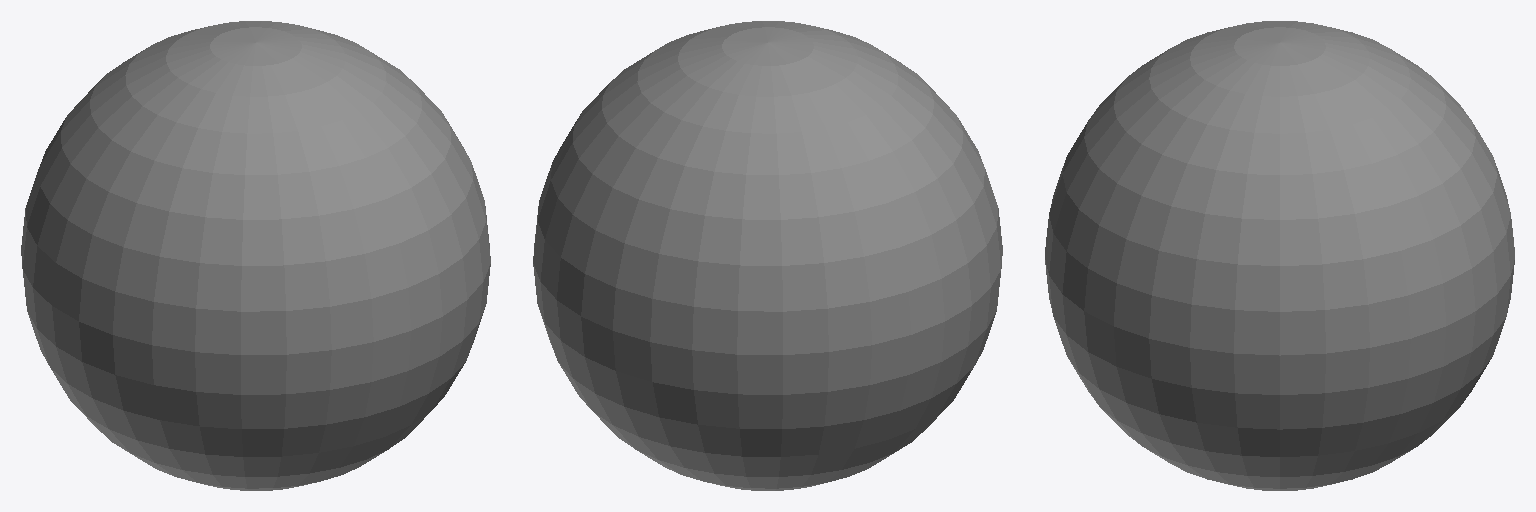
The model's file is TierraOBJ.obj.
3 renders of one model, left to right at view 1: azimuth 30°, elevation 25°; view 2: azimuth 150°, elevation 25°; view 3: azimuth 270°, elevation 25°, orthographic.
Parts seen in each view (by area): view 1: Sphere003; view 2: Sphere003; view 3: Sphere003.
Boxes of the visible parts, <box> form: Sphere003: <box>21,21,490,490</box>; Sphere003: <box>533,21,1002,490</box>; Sphere003: <box>1045,21,1514,490</box>.
Bounding box in the file's own units: 42.63 × 42.63 × 42.63.